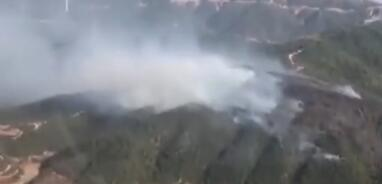yanwu: (1, 2, 362, 161)
